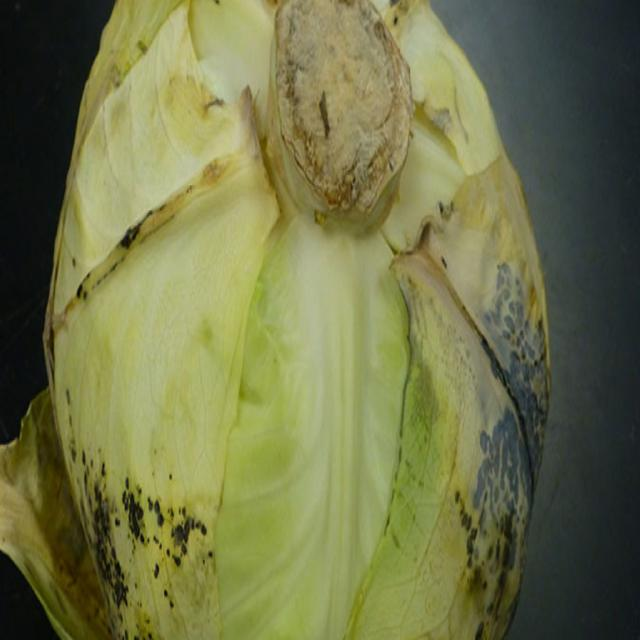rotten cabbage: (83, 27, 544, 628)
